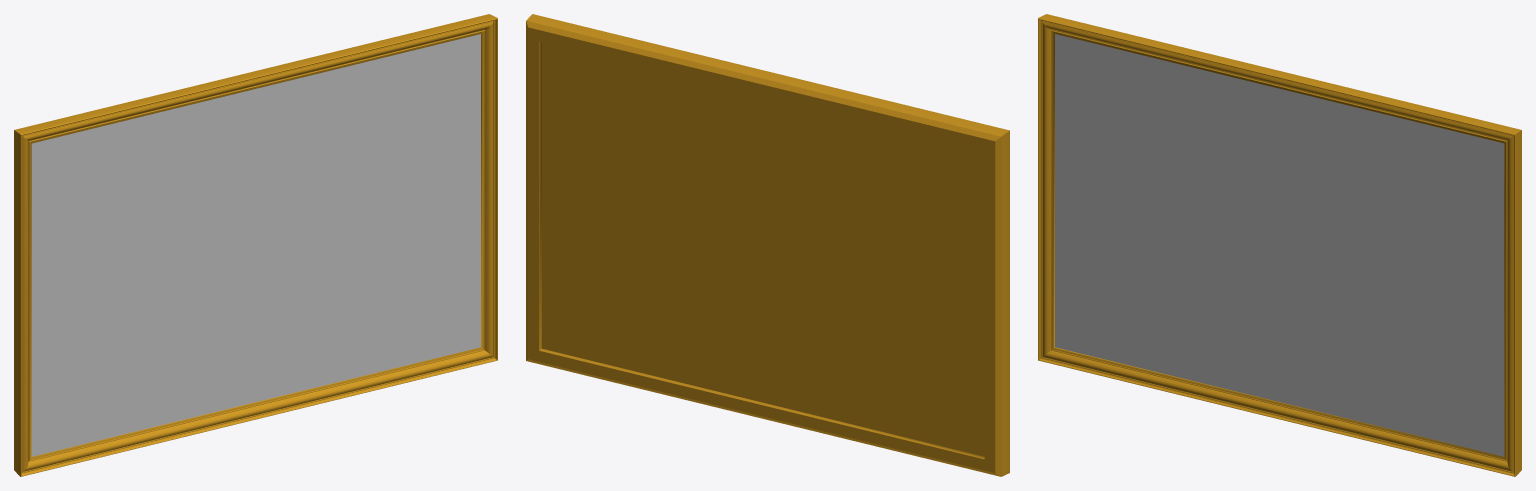
The model's file is Painting_H_1.fbx.
3 renders of one model, left to right at view 1: azimuth 30°, elevation 25°; view 2: azimuth 150°, elevation 25°; view 3: azimuth 330°, elevation 25°, orthographic.
Visible parts, largest first — view 1: SM_Painting_H_1; view 2: SM_Painting_H_1; view 3: SM_Painting_H_1.
Part boxes in pixels (x1=…): SM_Painting_H_1: x1=14, y1=14, x2=497, y2=476; SM_Painting_H_1: x1=526, y1=14, x2=1009, y2=476; SM_Painting_H_1: x1=1038, y1=14, x2=1521, y2=476.
Size of the model in its own units: 159 by 109 by 5.64.
